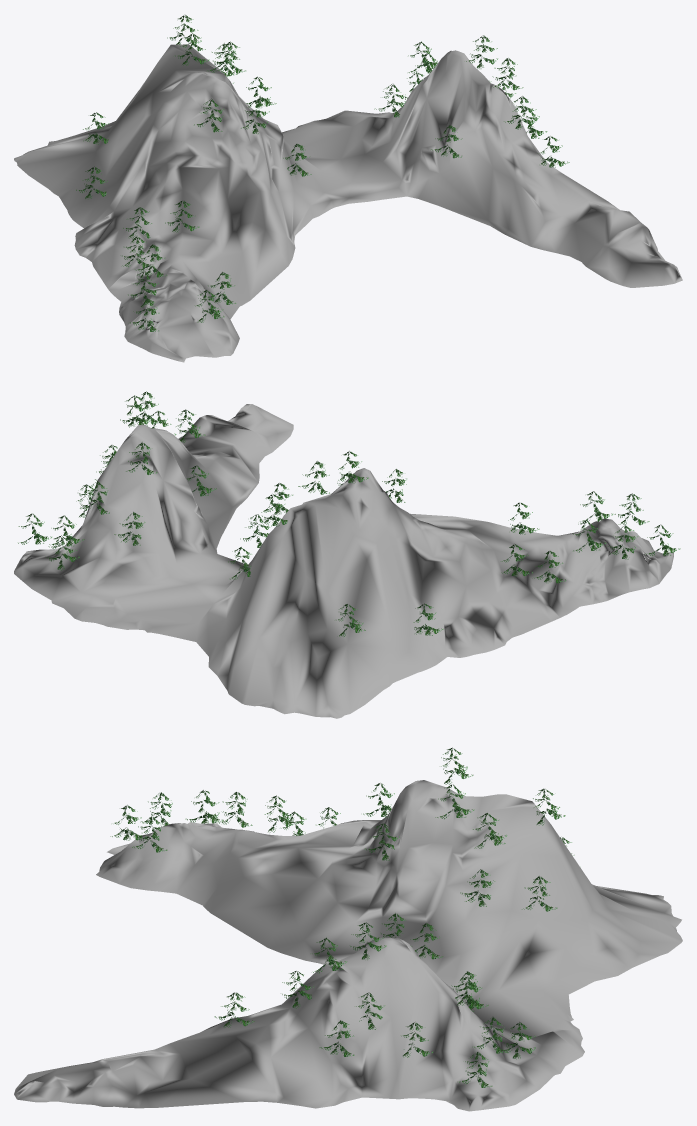
Rendered from Snow_Island_05.fbx.
3 views of the same model, one above another, from view 1: azimuth 30°, elevation 25°; view 2: azimuth 150°, elevation 25°; view 3: azimuth 270°, elevation 25° (orthographic). The views are drawn at different scales.
Visible parts, largest first — view 1: Snow_Island_05; view 2: Snow_Island_05; view 3: Snow_Island_05.
Part boxes in pixels (x1,y1,x2,y2): Snow_Island_05: (14, 15, 682, 362); Snow_Island_05: (14, 391, 680, 718); Snow_Island_05: (14, 747, 682, 1111).
Bounding box in the file's own units: 0.8398 × 0.2962 × 0.8641.
Materials: 2 (1 with a texture image).
